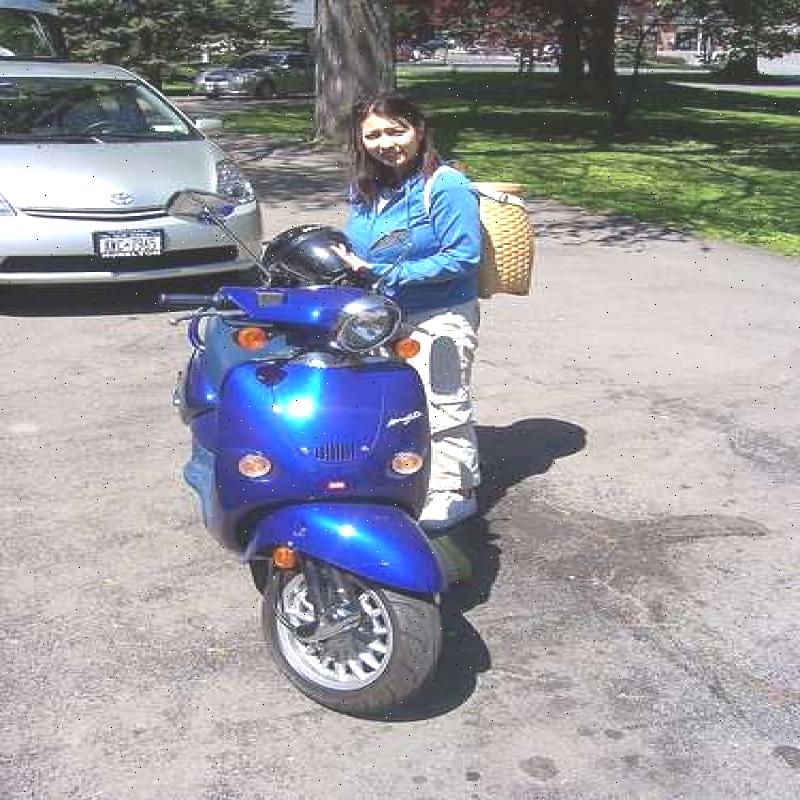bike: (158, 248, 496, 744)
